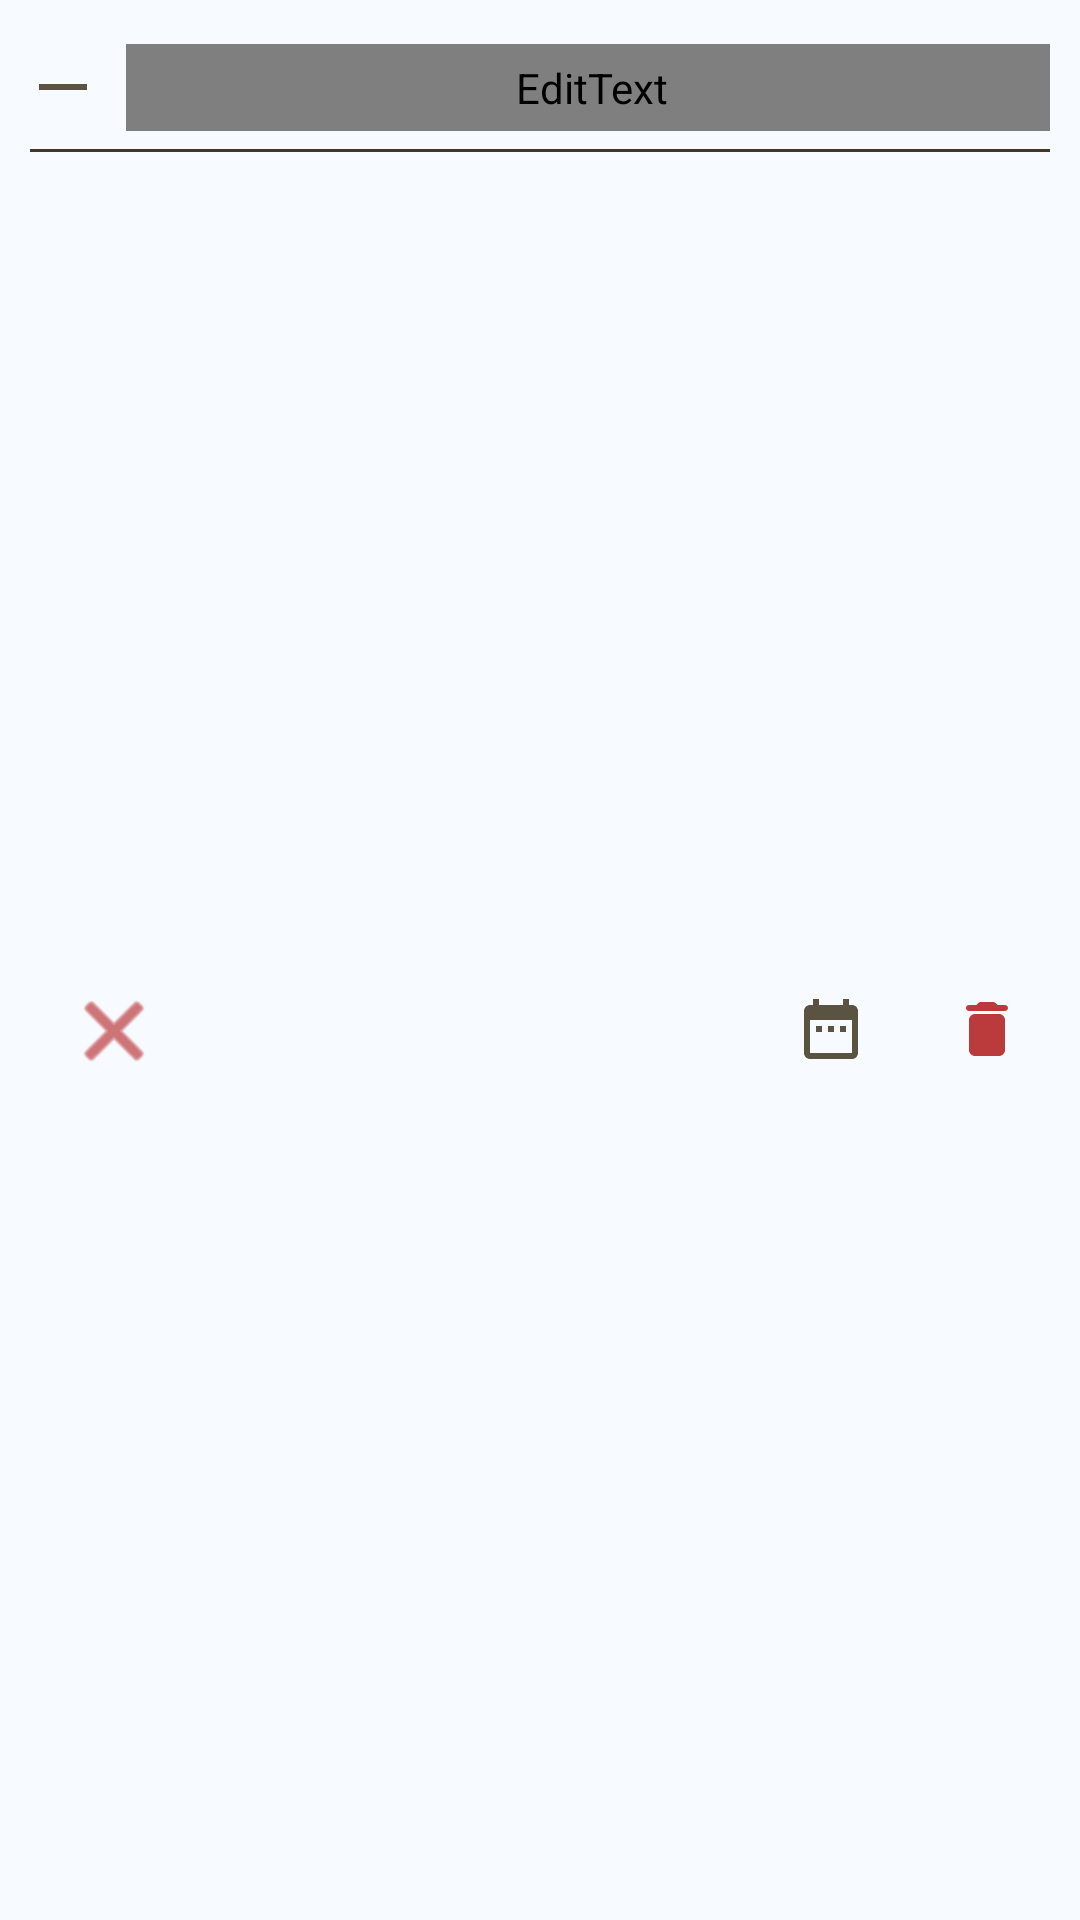

Icons on this 1080*1920 Android screen, each with the point to tap as [x,y]:
close clear cancel: [114,1031]
date: [831,1029]
delete: [987,1029]
